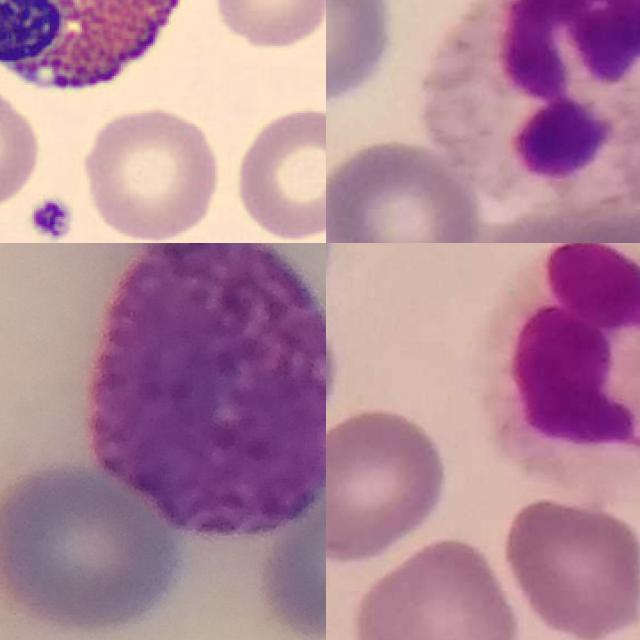Basophil: (93, 243, 326, 542)
Eosinophil: (0, 0, 206, 109)
Neutrophil: (421, 0, 640, 220), (478, 243, 640, 498)
Platelets: (25, 194, 77, 242)
RBC: (76, 100, 226, 243), (229, 100, 326, 243), (206, 0, 326, 51), (0, 81, 44, 209)
